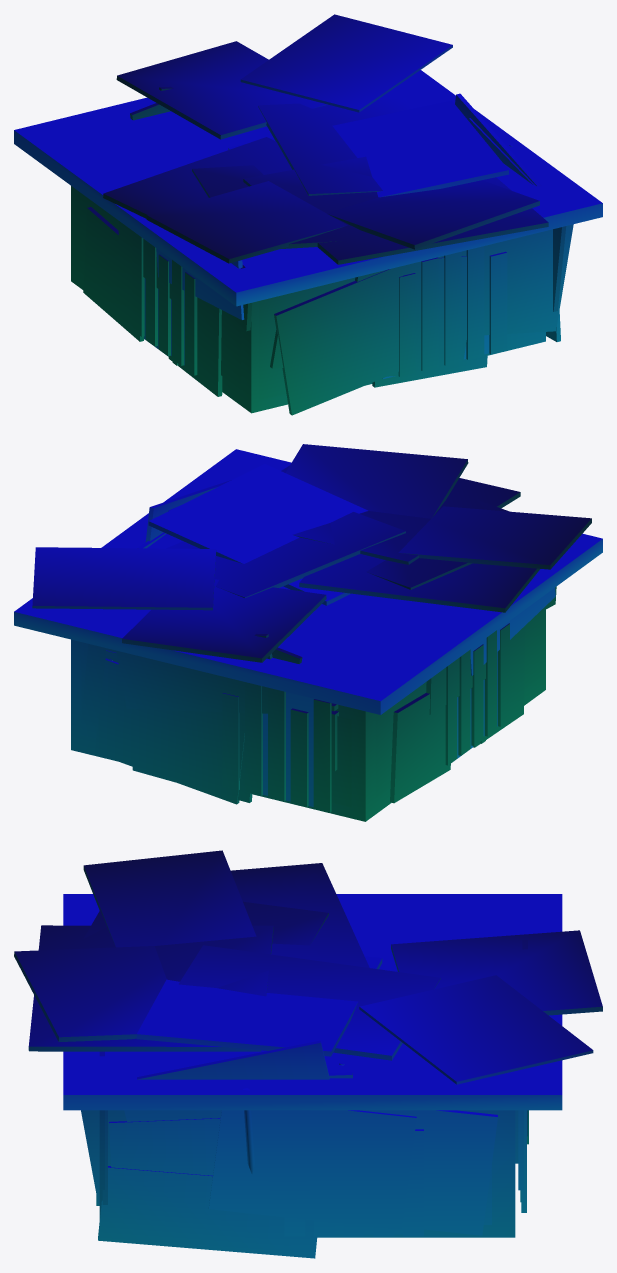
Rendered from crashshanty3_damaged.glb.
3 renders of one model, top to bottom at view 1: azimuth 30°, elevation 25°; view 2: azimuth 150°, elevation 25°; view 3: azimuth 270°, elevation 25°, orthographic. The views are drawn at different scales.
Parts seen in each view (by area): view 1: lod0; view 2: lod0; view 3: lod0.
Boxes of the visible parts, bbox=[...] form: lod0: bbox=[14, 14, 602, 415]; lod0: bbox=[14, 444, 602, 821]; lod0: bbox=[14, 850, 602, 1258].
Size of what is drawn, in the model's own units: 6.83 by 3.04 by 7.56.
